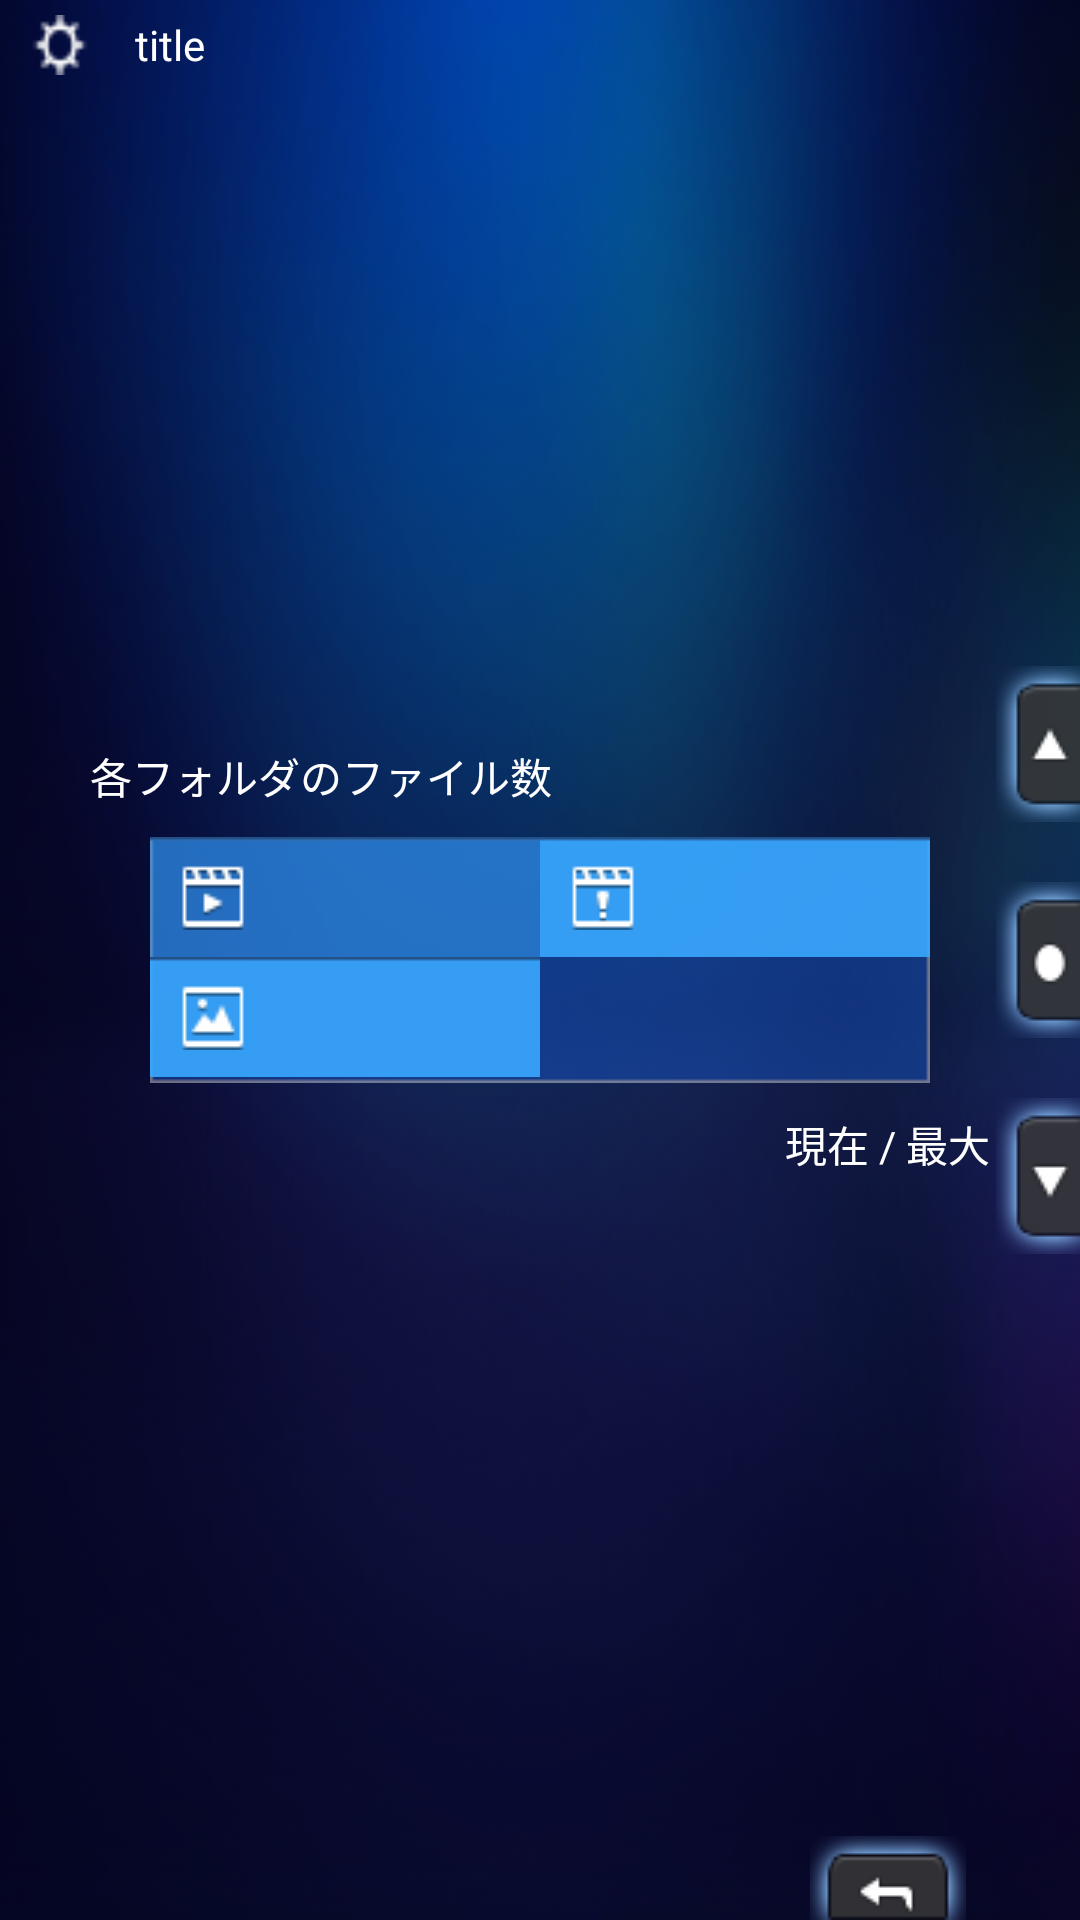

Named icons in this screenshot (1080*1920) and their centers, [x,y]:
sd continious: [213,898]
sd event: [603,898]
sub setting: [60,45]
tag menu main back: [887,1878]
tag menu main enter: [1040,960]
tag menu main movedown: [1040,1176]
tag menu main moveup: [1040,745]
